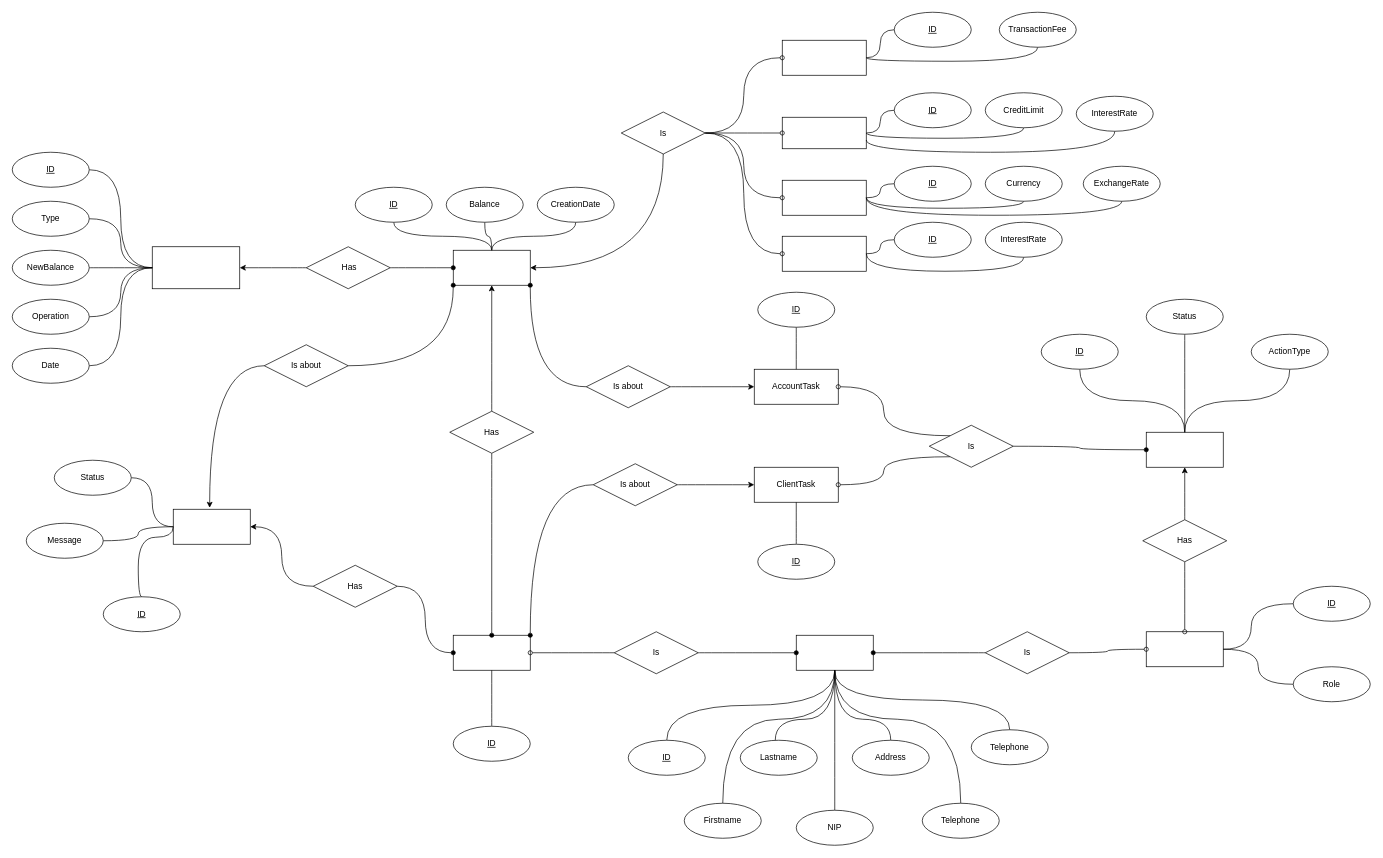
This 1383x858 diagram has some shape labels left out. The centre of each missing label's shape, as x and y in pixels:
BankAccount: point (491, 267)
CheckingAccount: point (824, 57)
Client: point (491, 652)
CreditAccount: point (824, 133)
CurrencyAccount: point (824, 197)
Manager: point (1184, 649)
Notification: point (211, 526)
SavingAccount: point (824, 253)
Task: point (1184, 449)
TransactionRecord: point (196, 267)
User: point (834, 652)
